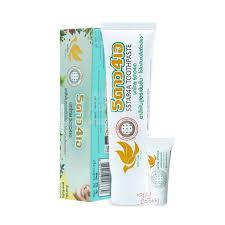toothpaste: (100, 23, 150, 206)
